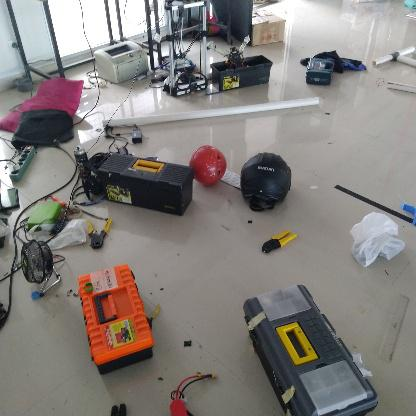red_buoy: (188, 142, 227, 190)
